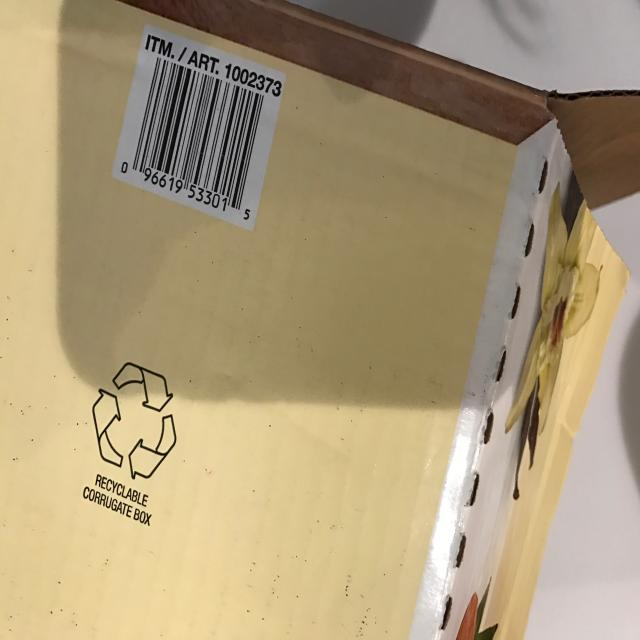cardboard: (1, 1, 636, 638)
